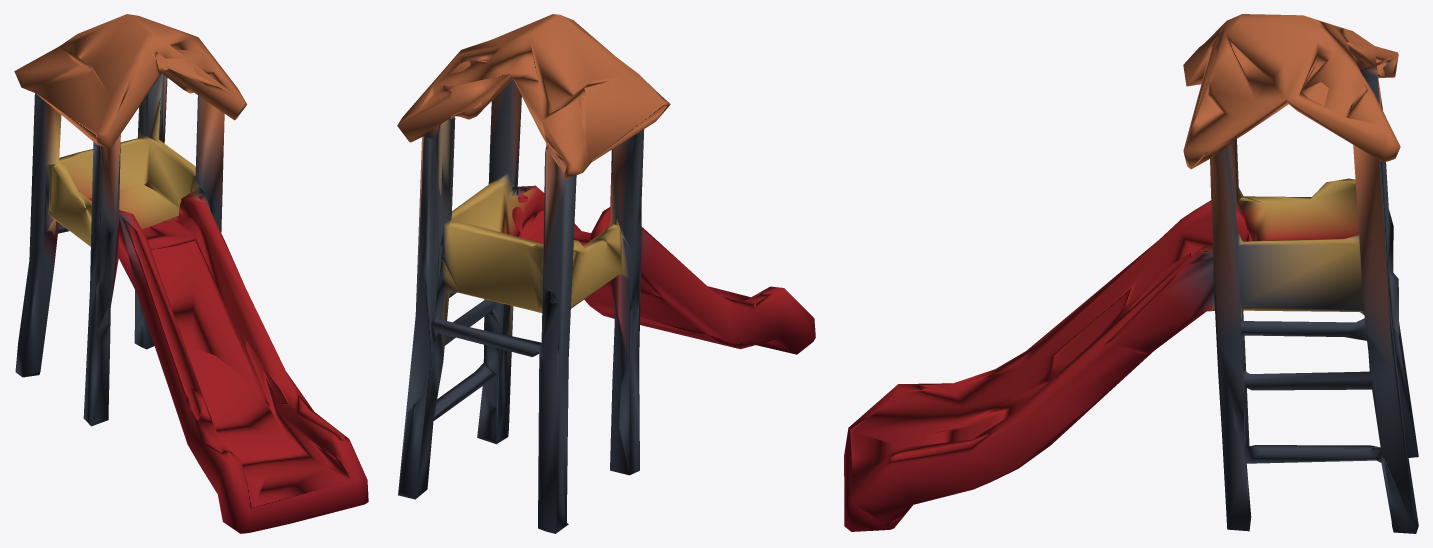
The model's file is gen3d-playground-slide-lod1.glb.
3 renders of one model, left to right at view 1: azimuth 30°, elevation 25°; view 2: azimuth 150°, elevation 25°; view 3: azimuth 270°, elevation 25°, orthographic. The views are drawn at different scales.
Parts seen in each view (by area): view 1: part_0; view 2: part_0; view 3: part_0.
Boxes of the visible parts, bbox=[...] form: part_0: bbox=[14, 14, 368, 533]; part_0: bbox=[397, 14, 815, 533]; part_0: bbox=[844, 14, 1418, 533].
Bounding box in the file's own units: 0.4212 × 0.9973 × 1.09.
